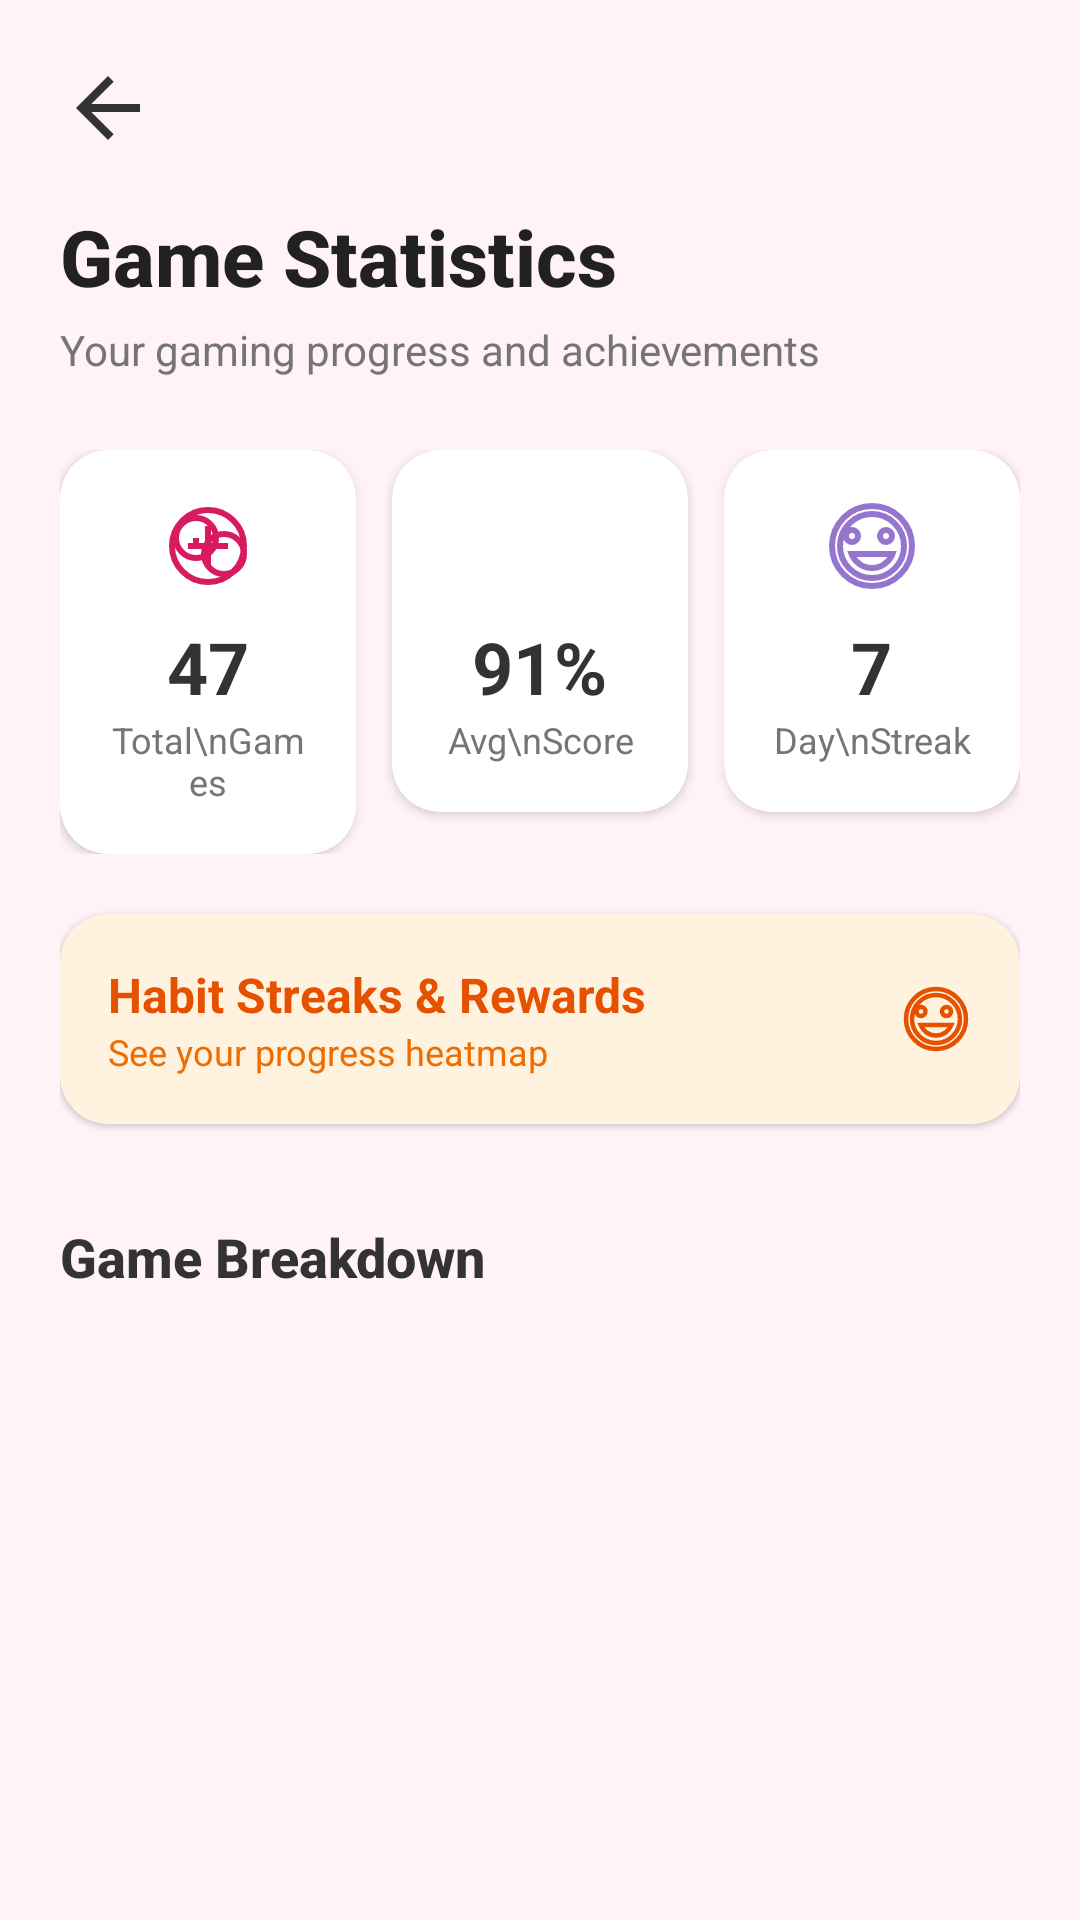

Named icons in this screenshot (1080x1920) and their bounding boxes, (x1=x1, y1=y1, x2=x2, y2=y2):
arrow back: (x1=76, y1=76, x2=140, y2=140)
emoji smile: (x1=829, y1=503, x2=915, y2=589), (x1=903, y1=986, x2=969, y2=1052)
